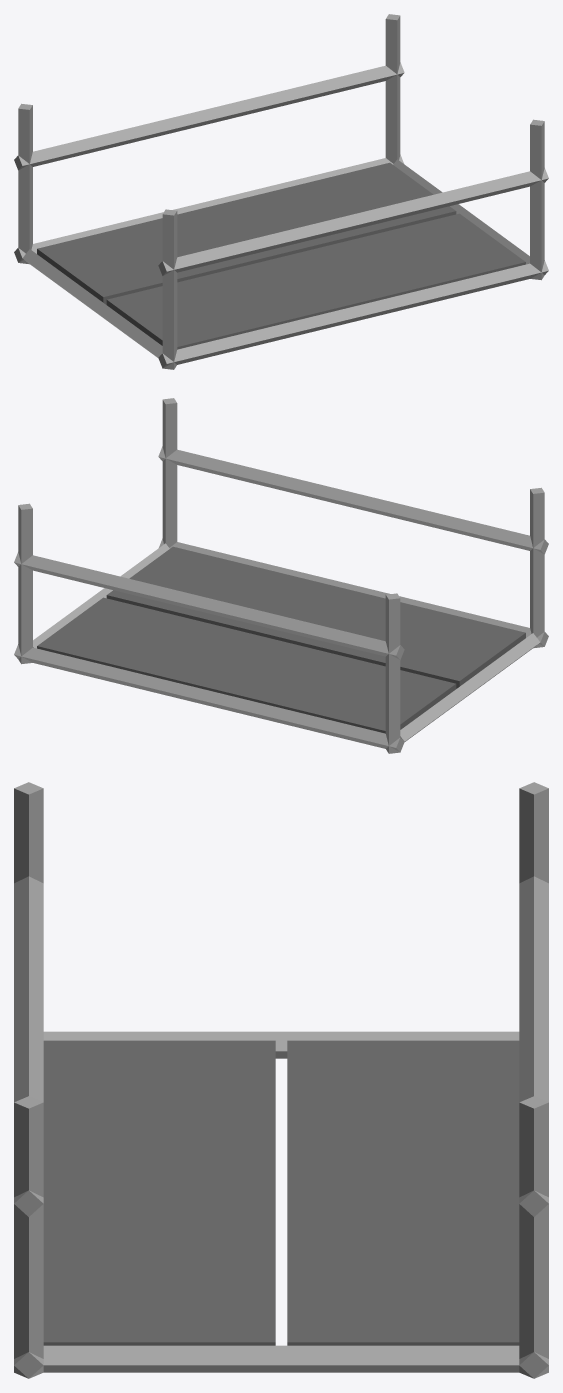
Rendered from ScaffOlding_3.fbx.
The picture shows the model from 3 angles, top to bottom: view 1: azimuth 30°, elevation 25°; view 2: azimuth 150°, elevation 25°; view 3: azimuth 270°, elevation 25°; orthographic projection. The views are drawn at different scales.
Parts seen in each view (by area): view 1: Cylinder.002; view 2: Cylinder.002; view 3: Cylinder.002.
Boxes of the visible parts, <box> form: Cylinder.002: <box>14,14,548,369</box>; Cylinder.002: <box>14,398,548,753</box>; Cylinder.002: <box>14,782,548,1378</box>.
Size of the model in its own units: 325 by 125 by 225.
